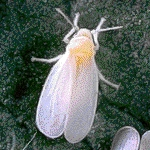whitefly: (31, 7, 120, 142)
